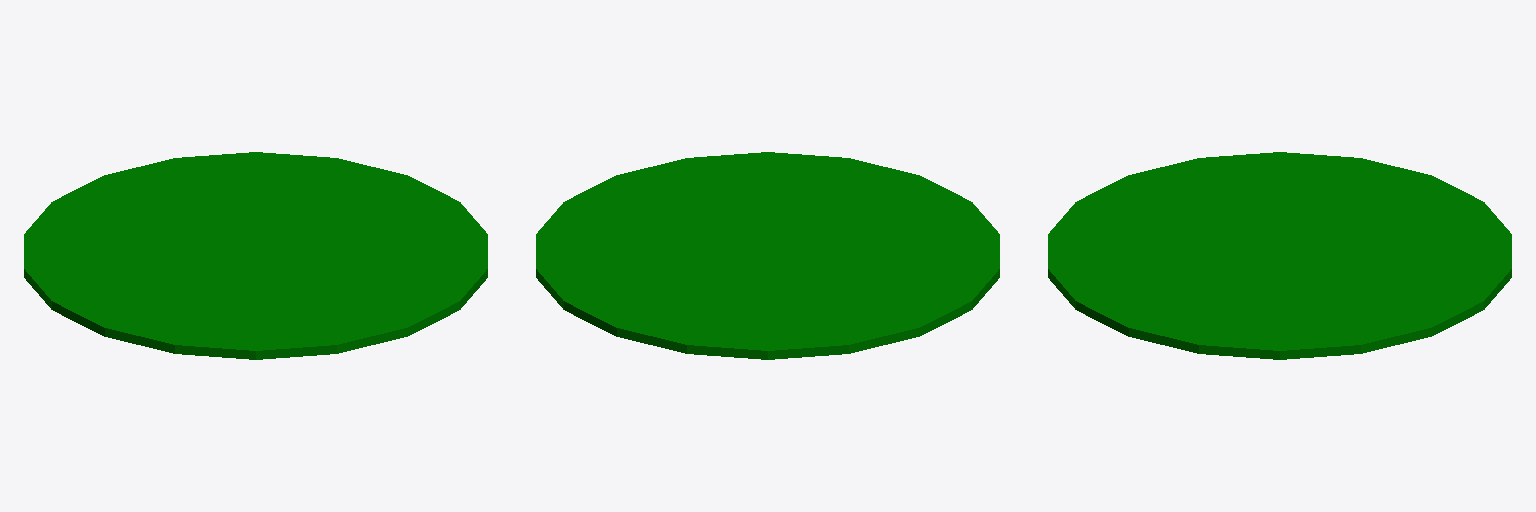
The model's file is ground.obj.
3 renders of one model, left to right at view 1: azimuth 30°, elevation 25°; view 2: azimuth 150°, elevation 25°; view 3: azimuth 270°, elevation 25°, orthographic.
Parts seen in each view (by area): view 1: mark; view 2: mark; view 3: mark.
Part boxes in pixels (left/top/right/bottom): mark: left=24, top=152, right=487, bottom=359; mark: left=536, top=152, right=999, bottom=359; mark: left=1048, top=152, right=1511, bottom=359.
Bounding box in the file's own units: 1241 × 26.19 × 1223.